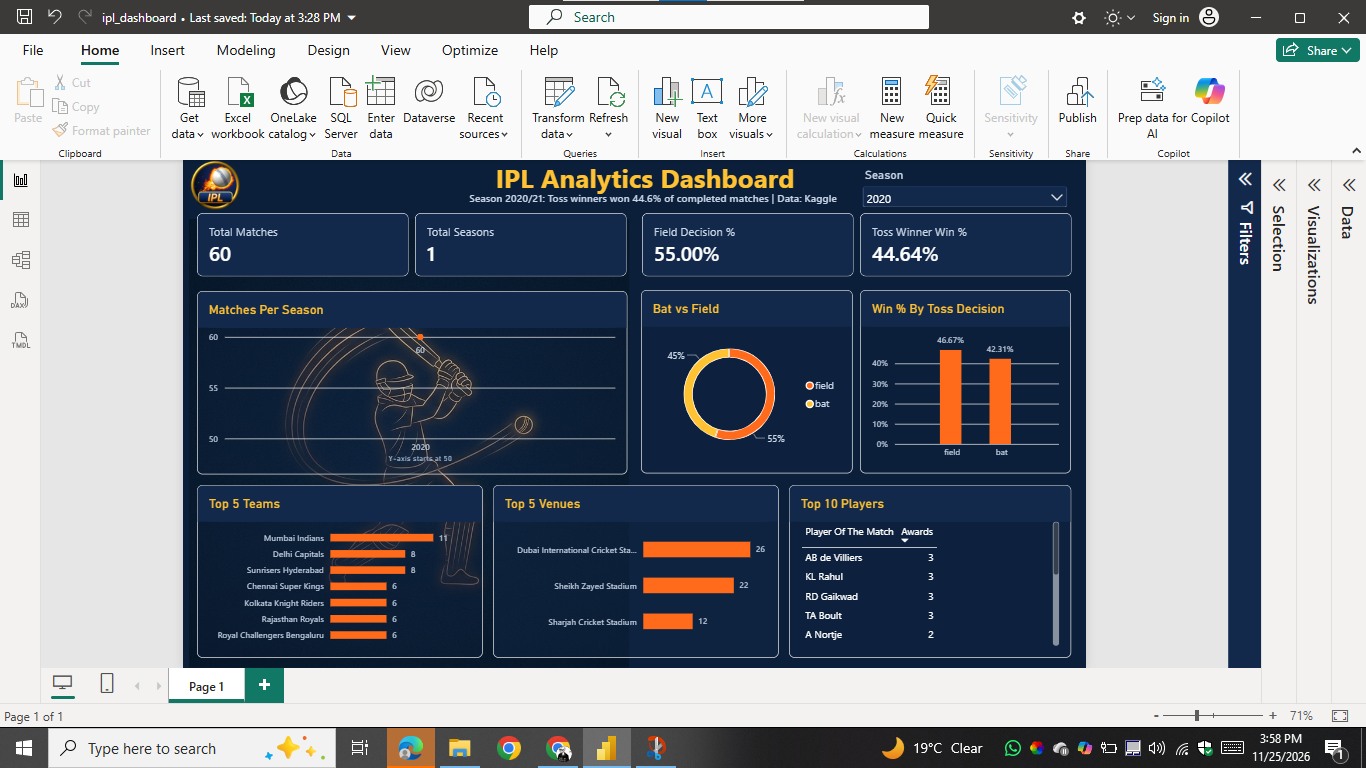

Layout of this report page (visuals, bound fields, positions):
{"tool":"powerbi","page":{"name":"Page 1","canvas":[1280,720],"ordinal":0},"visuals":[{"type":"image","box":[8.6,82.9,623.6,636.4],"z":0},{"type":"cardVisual","fields":{"Data":["ipl_matches_clean.Total Matches"]},"box":[19.8,75,300,90],"z":1000},{"type":"clusteredBarChart","title":"Top 5 Teams","fields":{"Category":["ipl_matches_clean.winner"],"Y":["CountNonNull(ipl_matches_clean.winner)"]},"box":[20,460,405,245],"z":2000},{"type":"lineChart","title":"Matches Per Season","fields":{"Category":["ipl_matches_clean.season_year"],"Y":["CountNonNull(ipl_matches_clean.date)"]},"box":[20,185,610,260],"z":3000},{"type":"donutChart","title":"Bat vs Field","fields":{"Category":["ipl_matches_clean.toss_decision"],"Y":["CountNonNull(ipl_matches_clean.date)"]},"box":[649.3,184.5,300.3,260.3],"z":4000},{"type":"clusteredBarChart","title":"Top 5 Venues","fields":{"Category":["ipl_matches_clean.venue_clean"],"Y":["CountNonNull(ipl_matches_clean.date)"]},"box":[440,461,405,245],"z":5000},{"type":"tableEx","title":"Top 10 Players","fields":{"Values":["ipl_matches_clean.player_of_match","ipl_matches_clean.date"]},"box":[859.5,460.5,400,245],"z":6000},{"type":"slicer","fields":{"Values":["ipl_matches_clean.season_year"]},"box":[958.7,12,300,55],"z":7000},{"type":"cardVisual","fields":{"Data":["ipl_matches_clean.Field Decision %"]},"box":[650,75,300,90],"z":8000},{"type":"cardVisual","fields":{"Data":["ipl_matches_clean.Total Seasons"]},"box":[328.8,75,300,90],"z":9000},{"type":"textbox","box":[439.4,0,464.9,51],"z":10000},{"type":"cardVisual","fields":{"Data":["ipl_matches_clean.Toss Winner Win %"]},"box":[960,75,300,90],"z":13000},{"type":"clusteredColumnChart","title":"Win % By Toss Decision","fields":{"Category":["ipl_matches_clean.toss_decision"],"Y":["ipl_matches_clean.Toss Winner Win %"]},"box":[959.6,184.5,298.9,260.3],"z":14000},{"type":"image","box":[10,0,72,72],"z":14001},{"type":"cardVisual","fields":{"Data":["ipl_matches_clean.Insight Line"]},"box":[389.8,39.7,560,28],"z":14002}]}

Visuals, with their boxes on the page's 1280x720 design canvas (x1, y1, x2, y2). These are canvas units, not pixel positions in the 1366x768 screenshot, which may show the page scaled, cropped or inside an application window:
image: 9/83/632/719
cardVisual - ipl_matches_clean.Total Matches: 20/75/320/165
"Top 5 Teams" clusteredBarChart: 20/460/425/705
"Matches Per Season" lineChart: 20/185/630/445
"Bat vs Field" donutChart: 649/184/950/445
"Top 5 Venues" clusteredBarChart: 440/461/845/706
"Top 10 Players" tableEx: 860/460/1260/706
slicer - ipl_matches_clean.season_year: 959/12/1259/67
cardVisual - ipl_matches_clean.Field Decision %: 650/75/950/165
cardVisual - ipl_matches_clean.Total Seasons: 329/75/629/165
textbox: 439/0/904/51
cardVisual - ipl_matches_clean.Toss Winner Win %: 960/75/1260/165
"Win % By Toss Decision" clusteredColumnChart: 960/184/1258/445
image: 10/0/82/72
cardVisual - ipl_matches_clean.Insight Line: 390/40/950/68
